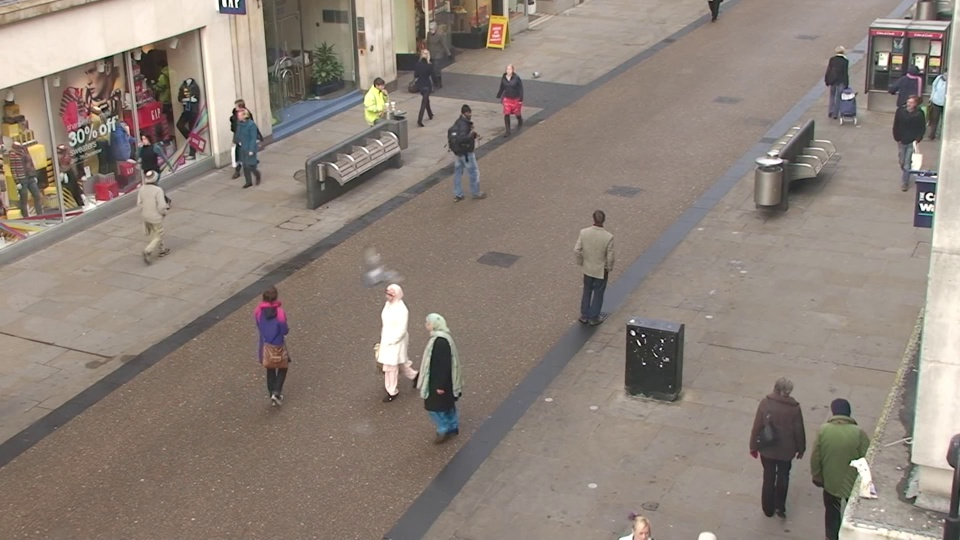pedestrian: (805, 387, 868, 540), (747, 365, 806, 527), (410, 306, 460, 451), (249, 277, 301, 414), (374, 276, 423, 413), (133, 165, 178, 271), (579, 204, 617, 325), (886, 93, 929, 186), (132, 128, 173, 224), (887, 64, 927, 151), (229, 103, 264, 193), (224, 95, 259, 183), (451, 102, 483, 194), (822, 43, 855, 122), (610, 499, 673, 540), (366, 76, 397, 159), (497, 60, 525, 140), (411, 47, 439, 123), (422, 21, 447, 90)
